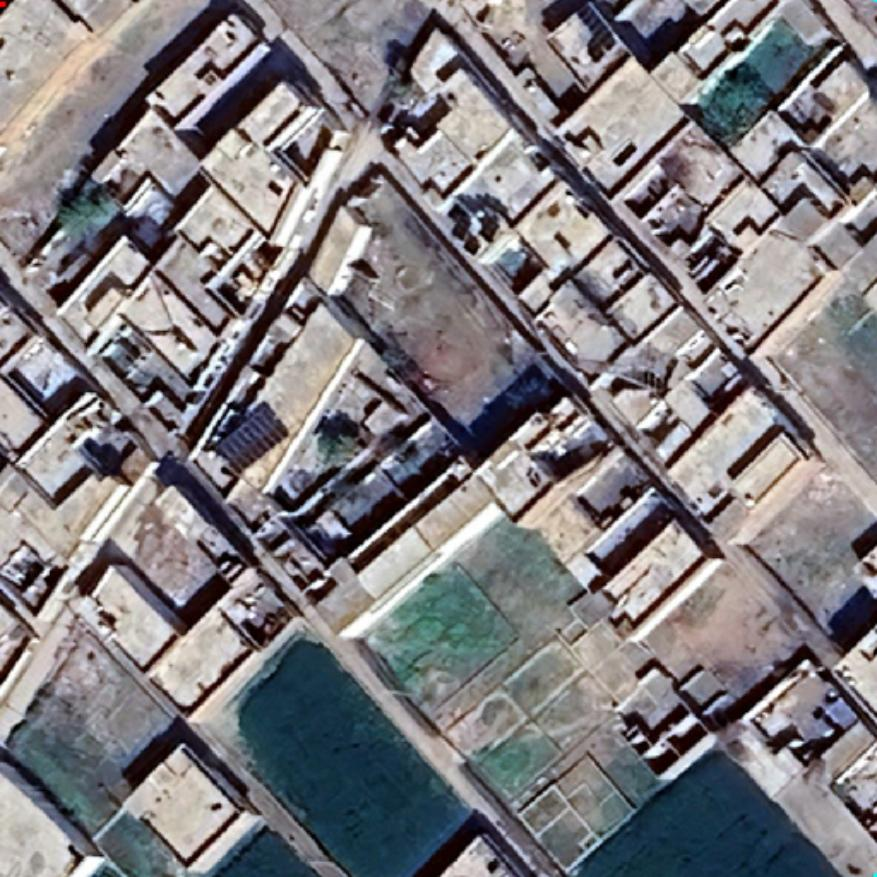Solarpanel: (207, 401, 295, 475)
